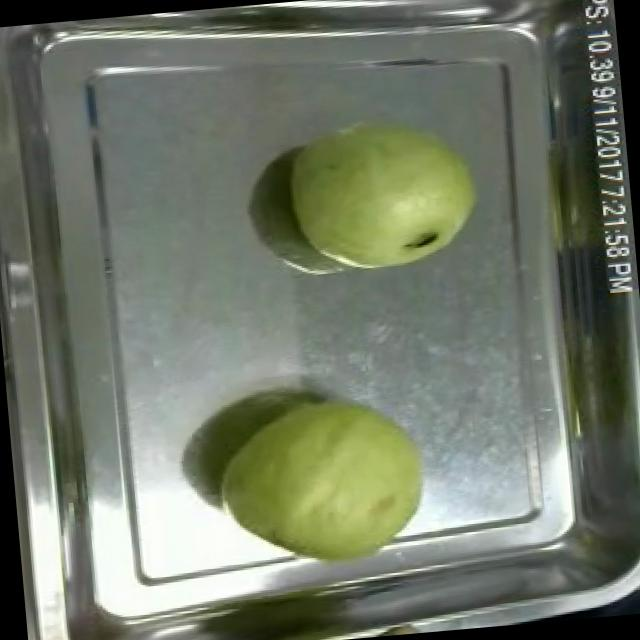Fruit: (202, 381, 442, 588), (274, 102, 492, 284)
